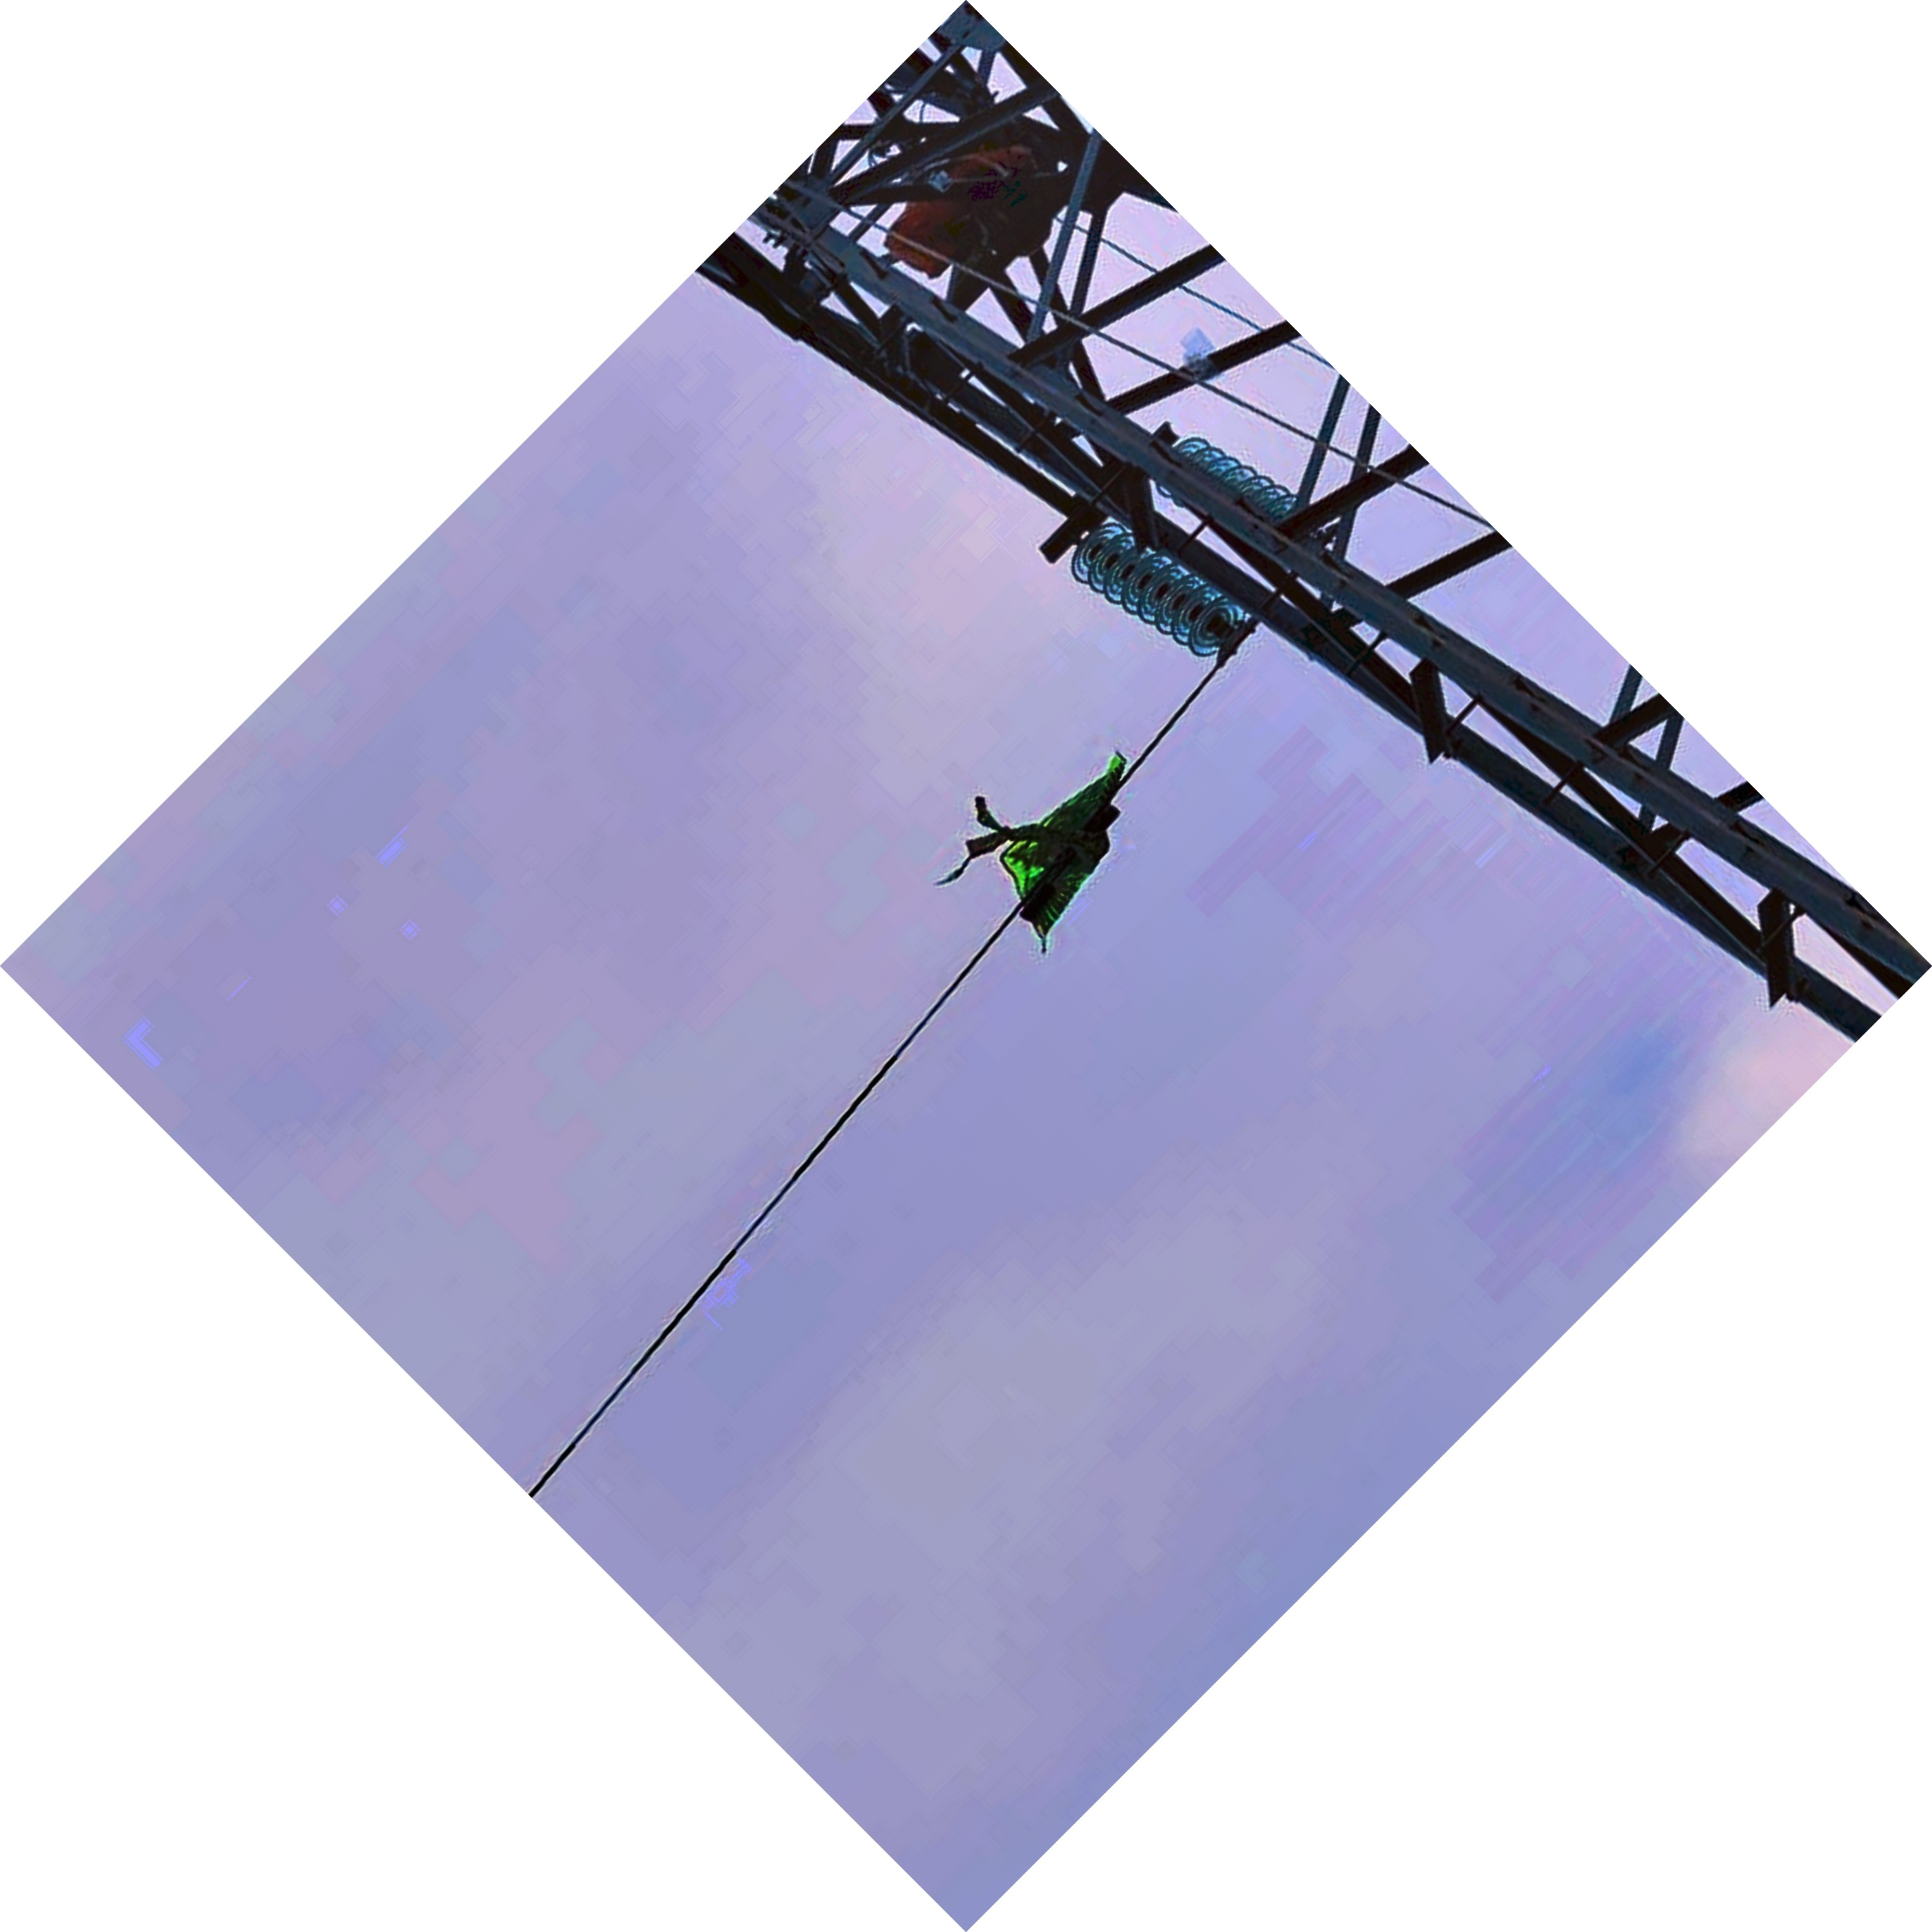wire foreign body: (922, 734, 1184, 964)
